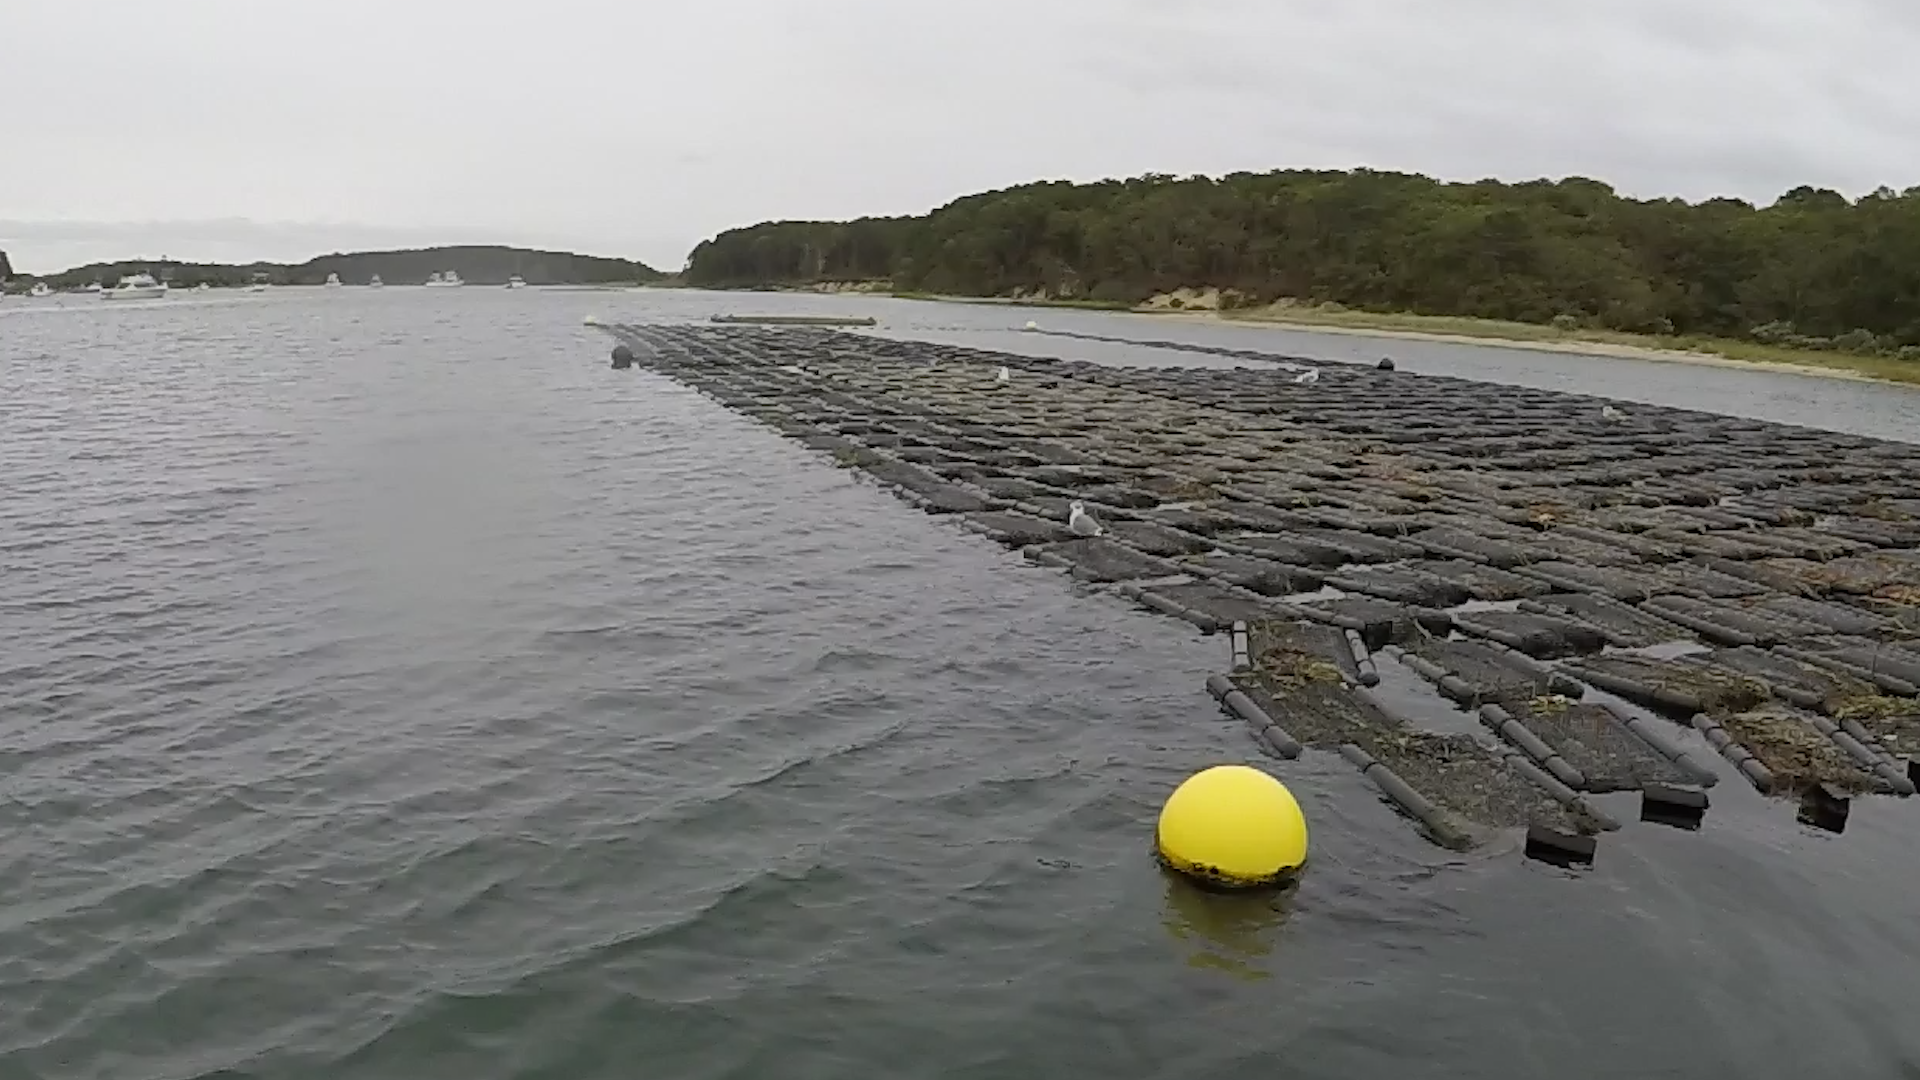bag: (1342, 744, 1622, 858)
